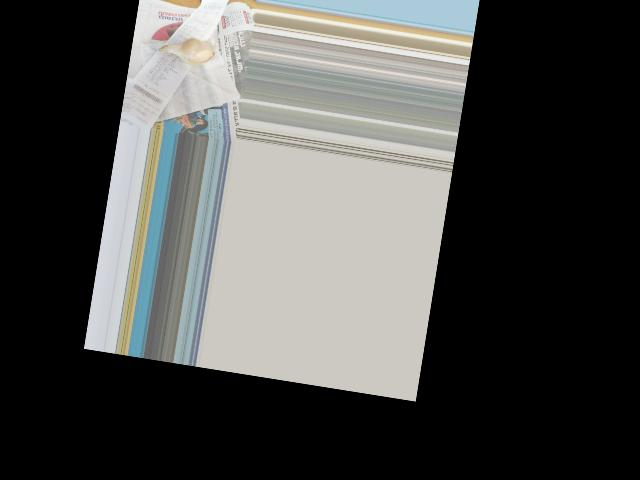onion: (161, 36, 212, 67)
